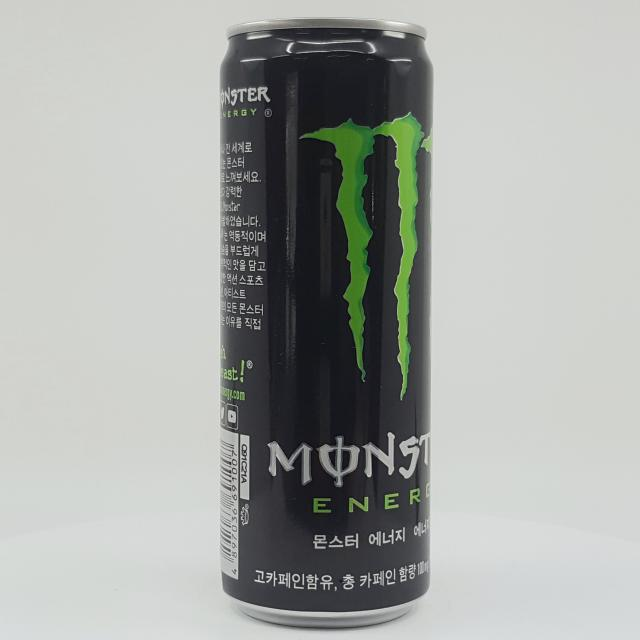--------355ML: (220, 17, 433, 628)
